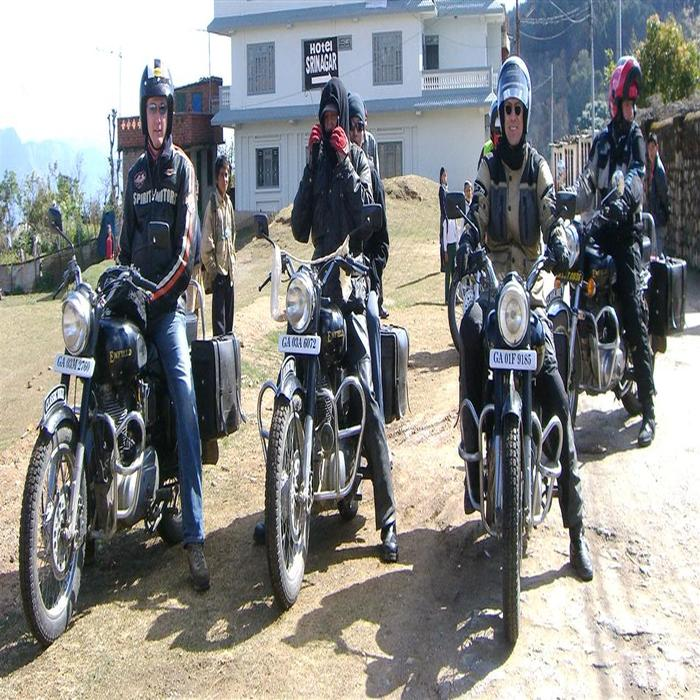h: (136, 56, 179, 157), (496, 55, 532, 147), (607, 54, 647, 128), (320, 79, 351, 138)
n: (487, 346, 539, 371), (52, 352, 95, 380), (277, 331, 323, 356)
